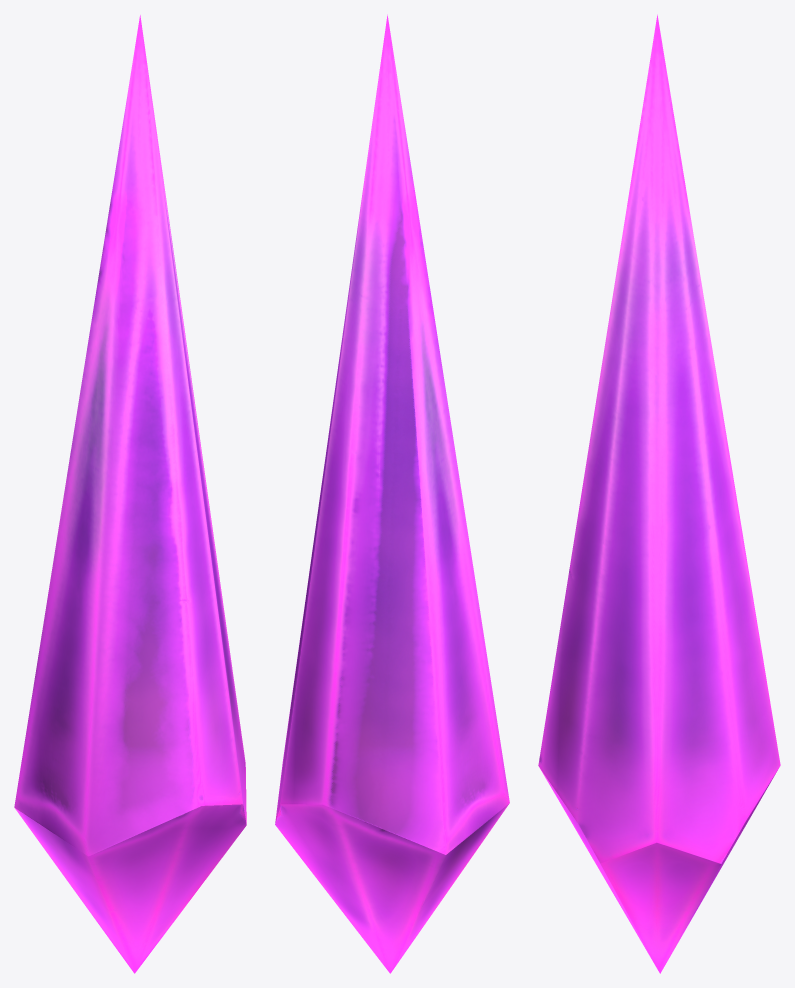
The model's file is crystal_sharp_single_purple.fbx.
3 views of the same model, side by side, from view 1: azimuth 30°, elevation 25°; view 2: azimuth 150°, elevation 25°; view 3: azimuth 270°, elevation 25° (orthographic).
Visible parts, largest first — view 1: crystal_sharp_single_purple; view 2: crystal_sharp_single_purple; view 3: crystal_sharp_single_purple.
Boxes of the visible parts, left/top/right/bottom form: crystal_sharp_single_purple: left=14, top=15, right=246, bottom=973; crystal_sharp_single_purple: left=275, top=14, right=509, bottom=973; crystal_sharp_single_purple: left=538, top=14, right=780, bottom=973.
Bounding box in the file's own units: 0.3176 × 1.48 × 0.3367.
